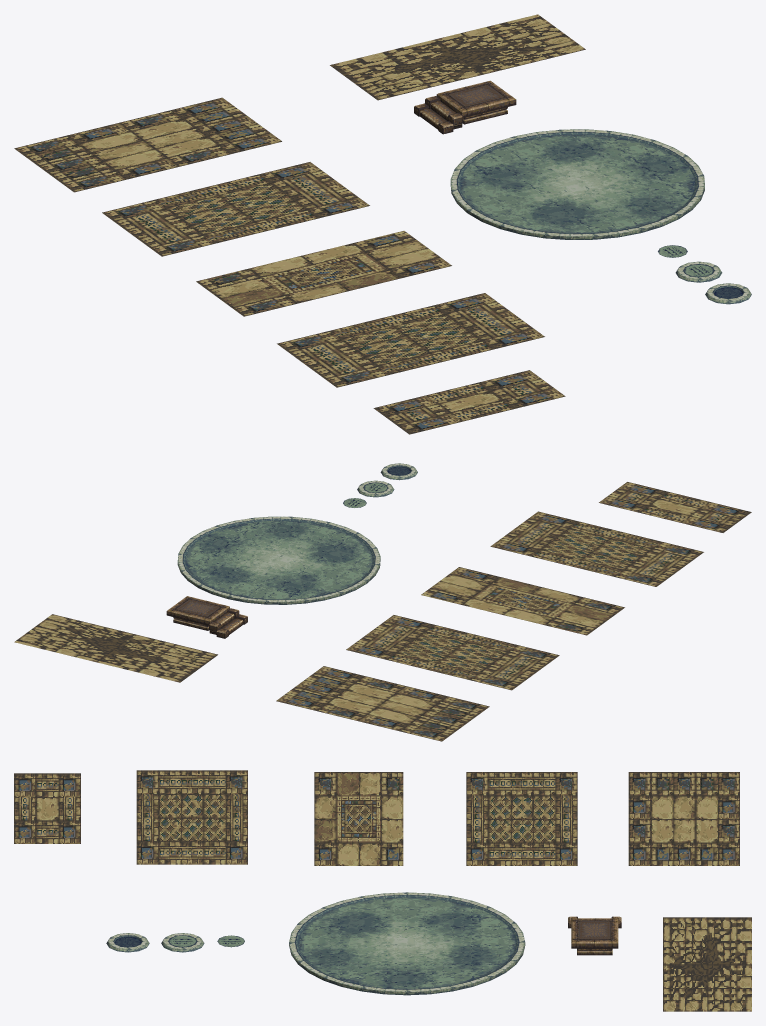
Rendered from EnvMdrMD_Ruins_A_GrdDeco_A.FBX.
3 renders of one model, top to bottom at view 1: azimuth 30°, elevation 25°; view 2: azimuth 150°, elevation 25°; view 3: azimuth 270°, elevation 25°, orthographic. The views are drawn at different scales.
Parts seen in each view (by area): view 1: EnvMdrMD_Ruins_A_GrdDeco_F, EnvMdrMD_Ruins_A_GrdDeco_C, EnvMdrMD_Ruins_A_GrdDeco_D, EnvMdrMD_Ruins_A_GrdDeco_C_CastShadow, EnvMdrMD_Ruins_A_GrdDeco_E, EnvMdrMD_Ruins_A_GrdDeco_B, EnvMdrMD_Ruins_A_GrdDeco_A, EnvMdrMD_Ruins_A_Job_Altar_A, EnvMdrMD_Ruins_A_GrdDeco_F_Off, EnvMdrMD_Ruins_A_GrdDeco_F_On; view 2: EnvMdrMD_Ruins_A_GrdDeco_F, EnvMdrMD_Ruins_A_GrdDeco_C_CastShadow, EnvMdrMD_Ruins_A_GrdDeco_C, EnvMdrMD_Ruins_A_GrdDeco_D, EnvMdrMD_Ruins_A_GrdDeco_B, EnvMdrMD_Ruins_A_GrdDeco_E, EnvMdrMD_Ruins_A_GrdDeco_A, EnvMdrMD_Ruins_A_Job_Altar_A, EnvMdrMD_Ruins_A_GrdDeco_F_Off, EnvMdrMD_Ruins_A_GrdDeco_F_On; view 3: EnvMdrMD_Ruins_A_GrdDeco_F, EnvMdrMD_Ruins_A_GrdDeco_C_CastShadow, EnvMdrMD_Ruins_A_GrdDeco_C, EnvMdrMD_Ruins_A_GrdDeco_D, EnvMdrMD_Ruins_A_GrdDeco_B, EnvMdrMD_Ruins_A_GrdDeco_E, EnvMdrMD_Ruins_A_GrdDeco_A, EnvMdrMD_Ruins_A_Job_Altar_A, EnvMdrMD_Ruins_A_GrdDeco_F_Off, EnvMdrMD_Ruins_A_GrdDeco_F_On.
Part boxes in pixels (x1=…): EnvMdrMD_Ruins_A_GrdDeco_F: x1=450, y1=129, x2=704, y2=239; EnvMdrMD_Ruins_A_GrdDeco_C: x1=102, y1=162, x2=369, y2=256; EnvMdrMD_Ruins_A_GrdDeco_D: x1=14, y1=97, x2=281, y2=192; EnvMdrMD_Ruins_A_GrdDeco_C_CastShadow: x1=277, y1=293, x2=544, y2=387; EnvMdrMD_Ruins_A_GrdDeco_E: x1=330, y1=14, x2=585, y2=100; EnvMdrMD_Ruins_A_GrdDeco_B: x1=196, y1=231, x2=451, y2=316; EnvMdrMD_Ruins_A_GrdDeco_A: x1=373, y1=370, x2=565, y2=434; EnvMdrMD_Ruins_A_Job_Altar_A: x1=414, y1=80, x2=516, y2=134; EnvMdrMD_Ruins_A_GrdDeco_F_Off: x1=705, y1=283, x2=751, y2=304; EnvMdrMD_Ruins_A_GrdDeco_F_On: x1=675, y1=261, x2=722, y2=282; EnvMdrMD_Ruins_A_GrdDeco_F: x1=177, y1=516, x2=380, y2=604; EnvMdrMD_Ruins_A_GrdDeco_C_CastShadow: x1=490, y1=511, x2=703, y2=586; EnvMdrMD_Ruins_A_GrdDeco_C: x1=346, y1=615, x2=559, y2=690; EnvMdrMD_Ruins_A_GrdDeco_D: x1=276, y1=666, x2=489, y2=741; EnvMdrMD_Ruins_A_GrdDeco_B: x1=421, y1=567, x2=624, y2=635; EnvMdrMD_Ruins_A_GrdDeco_E: x1=14, y1=614, x2=217, y2=682; EnvMdrMD_Ruins_A_GrdDeco_A: x1=599, y1=482, x2=751, y2=532; EnvMdrMD_Ruins_A_Job_Altar_A: x1=166, y1=596, x2=247, y2=638; EnvMdrMD_Ruins_A_GrdDeco_F_Off: x1=380, y1=463, x2=417, y2=480; EnvMdrMD_Ruins_A_GrdDeco_F_On: x1=357, y1=480, x2=394, y2=497; EnvMdrMD_Ruins_A_GrdDeco_F: x1=289, y1=892, x2=525, y2=995; EnvMdrMD_Ruins_A_GrdDeco_C_CastShadow: x1=136, y1=770, x2=247, y2=864; EnvMdrMD_Ruins_A_GrdDeco_C: x1=466, y1=772, x2=577, y2=865; EnvMdrMD_Ruins_A_GrdDeco_D: x1=628, y1=772, x2=739, y2=865; EnvMdrMD_Ruins_A_GrdDeco_B: x1=314, y1=772, x2=403, y2=865; EnvMdrMD_Ruins_A_GrdDeco_E: x1=663, y1=917, x2=751, y2=1011; EnvMdrMD_Ruins_A_GrdDeco_A: x1=14, y1=773, x2=80, y2=843; EnvMdrMD_Ruins_A_Job_Altar_A: x1=568, y1=916, x2=621, y2=955; EnvMdrMD_Ruins_A_GrdDeco_F_Off: x1=106, y1=933, x2=149, y2=952; EnvMdrMD_Ruins_A_GrdDeco_F_On: x1=161, y1=933, x2=204, y2=952.
Size of the model in its own units: 2559 by 75 by 3311.
Materials: 3 (3 with a texture image).
